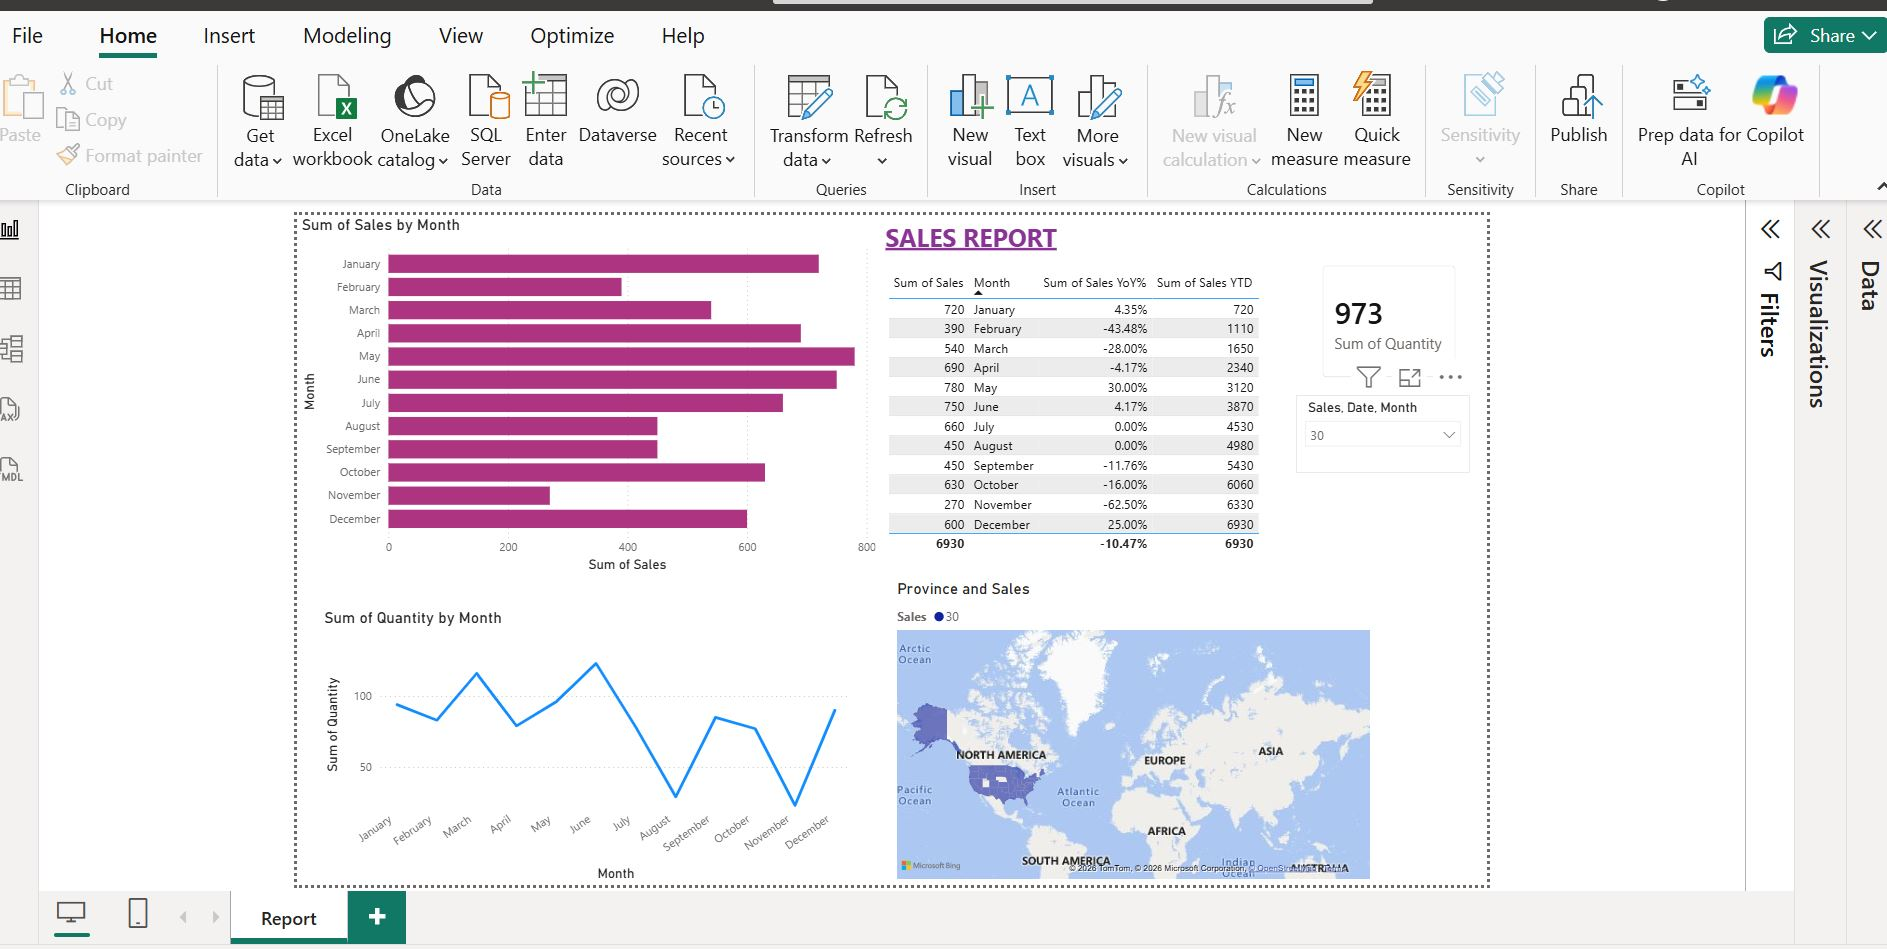

The dashboard page shown, as its layout file describes it:
{"tool":"powerbi","page":{"name":"Report","canvas":[1280,720],"ordinal":0},"visuals":[{"type":"slicer","fields":{"Values":["InvoiceData.Date.Variation.Date Hierarchy.Year"]},"box":[52.5,36.6,394.5,82.7],"z":0},{"type":"clusteredBarChart","fields":{"Category":["InvoiceData.Date.Variation.Date Hierarchy.Month"],"Y":["Sum(InvoiceData.Sales)"]},"box":[0,23.8,627.1,389.1],"z":2001},{"type":"tableEx","fields":{"Values":["Sum(InvoiceData.Sales)","InvoiceData.Date.Variation.Date Hierarchy.Month","InvoiceData.Sum of Sales YoY%","InvoiceData.Sum of Sales YTD"]},"box":[630.7,55.9,462.9,323.7],"z":2002},{"type":"filledMap","fields":{"Category":["MasterCustomer1.Province"],"Series":["InvoiceData.Sales"]},"box":[640.2,392.7,517.6,327.2],"z":2003},{"type":"lineChart","fields":{"Y":["Sum(InvoiceData.Quantity)"],"Category":["InvoiceData.Date.Variation.Date Hierarchy.Month"]},"box":[25,422.4,575.9,297.5],"z":2004},{"type":"textbox","box":[627.1,0,235.6,47.6],"z":2005},{"type":"cardVisual","fields":{"Data":["Sum(InvoiceData.Quantity)"]},"box":[1085.2,36.9,177.3,154.7],"z":2006}]}

Visuals, with their boxes on the page's 1280x720 design canvas (x1, y1, x2, y2). These are canvas units, not pixel positions in the 1887x949 screenshot, which may show the page scaled, cropped or inside an application window:
slicer - InvoiceData.Date.Variation.Date Hierarchy.Year: Rect(52, 37, 447, 119)
clusteredBarChart - InvoiceData.Date.Variation.Date Hierarchy.Month x Sum(InvoiceData.Sales): Rect(0, 24, 627, 413)
tableEx - Sum(InvoiceData.Sales) x InvoiceData.Date.Variation.Date Hierarchy.Month: Rect(631, 56, 1094, 380)
filledMap - MasterCustomer1.Province x InvoiceData.Sales: Rect(640, 393, 1158, 720)
lineChart - Sum(InvoiceData.Quantity) x InvoiceData.Date.Variation.Date Hierarchy.Month: Rect(25, 422, 601, 720)
textbox: Rect(627, 0, 863, 48)
cardVisual - Sum(InvoiceData.Quantity): Rect(1085, 37, 1262, 192)
